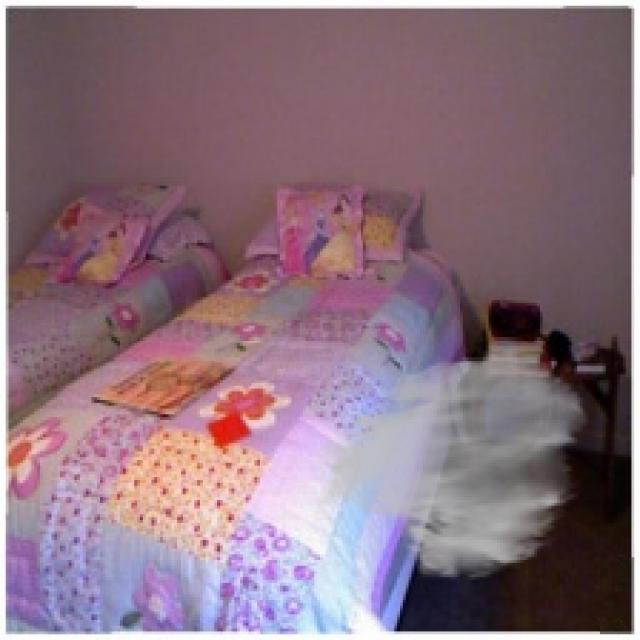smoke: (308, 348, 592, 583)
